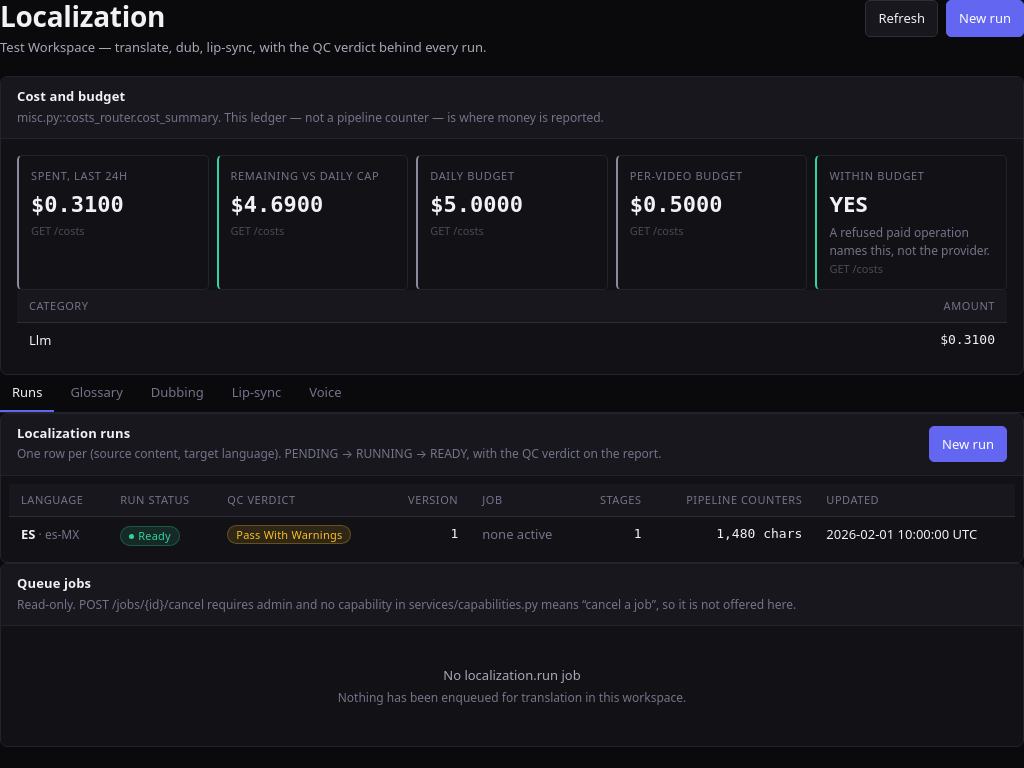
Test: a blocked provider is never presented as available › renders a DEGRADED provider with its degradation visible, not as ready
Click the tab "Lip-sync" at (256, 393), box [220, 375, 293, 412]
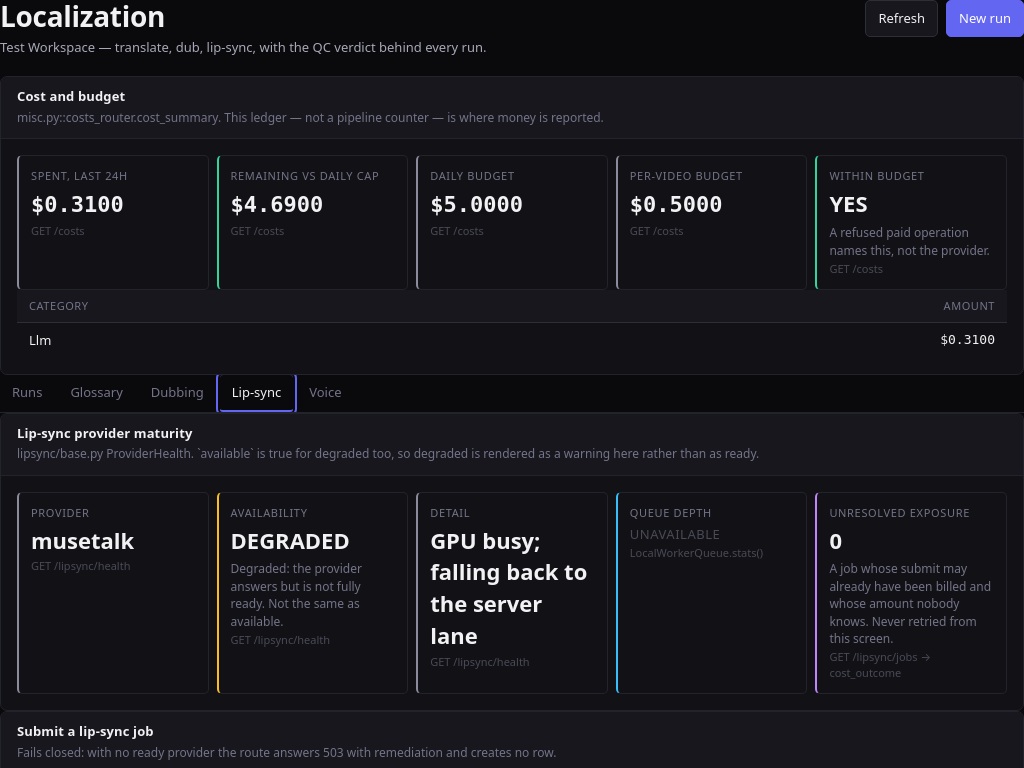
Expected: the text "Availability" is shown, [231, 505, 308, 520]
Expected: the text "DEGRADED" is shown, [231, 524, 350, 554]
Expected: the text "GPU busy; falling back to the server lane" is shown, [430, 524, 595, 652]
